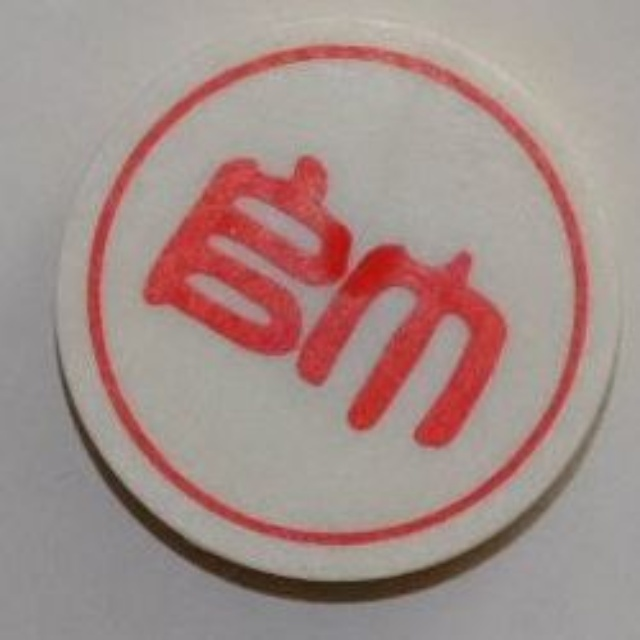red_tuong: (52, 14, 631, 586)
